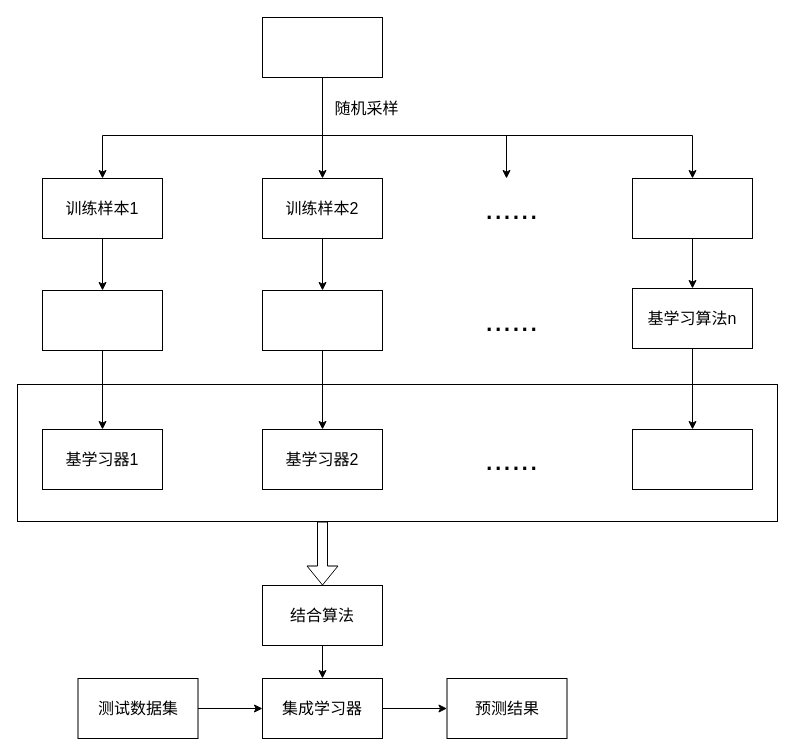
Image size: 795x756. Some labels were removed from this diagram. The shapes that lost their labels are listed below. From the top down, each one's centre as x and y in pixels, then its label:
At [322,47]: "训练数据集".
At [692,208]: "训练样本n".
At [102,320]: "基学习算法1".
At [322,320]: "基学习算法2".
At [692,459]: "基学习器n".
